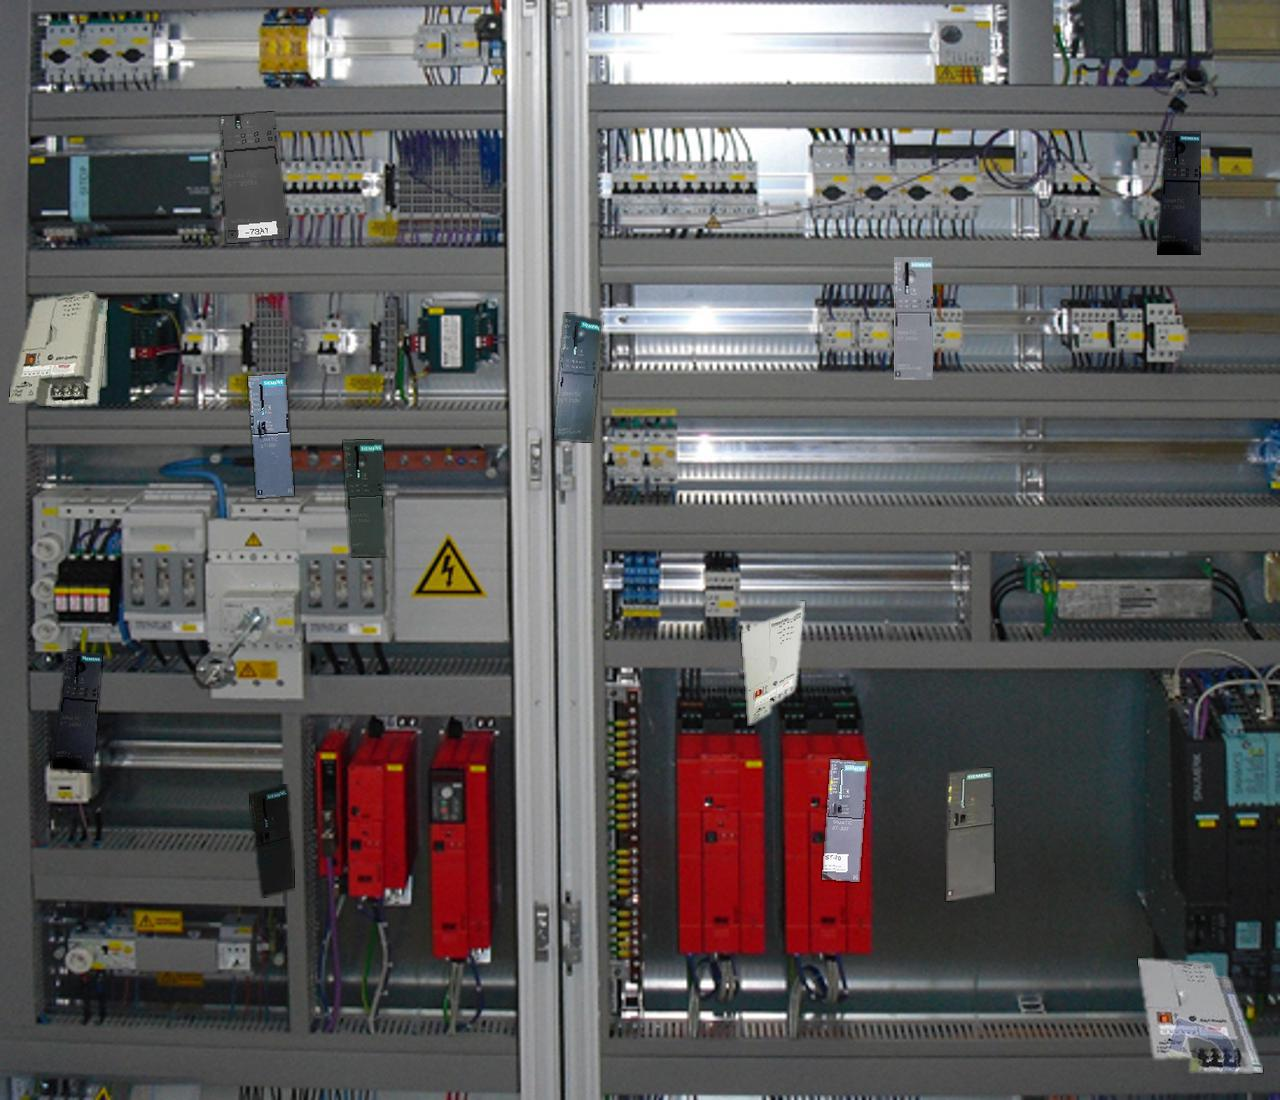AllenBradley: (1139, 957, 1261, 1072), (9, 292, 107, 406), (741, 601, 804, 725)
Siemens: (946, 768, 994, 900), (248, 374, 293, 497), (822, 759, 866, 881), (250, 784, 294, 897)
